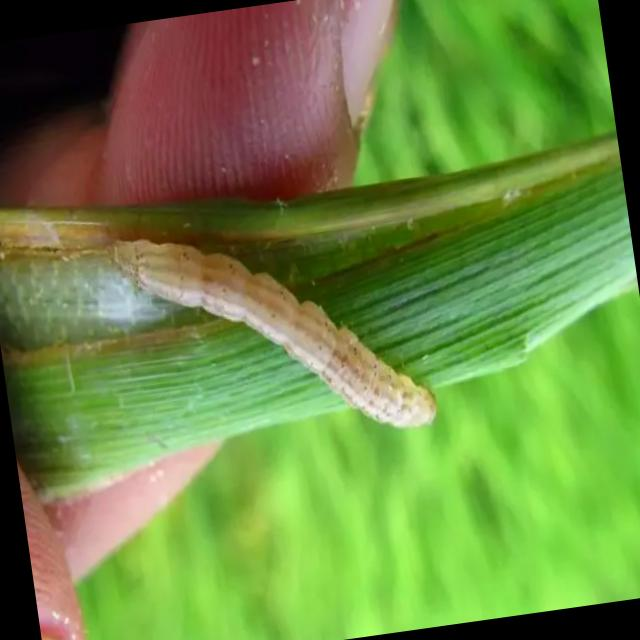pest: (123, 199, 435, 470)
